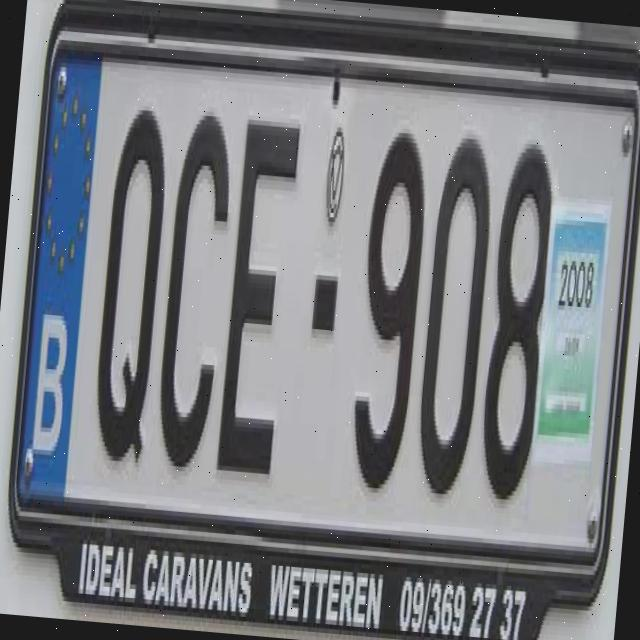Belgique: (13, 48, 104, 499)
EU: (17, 57, 640, 560)
